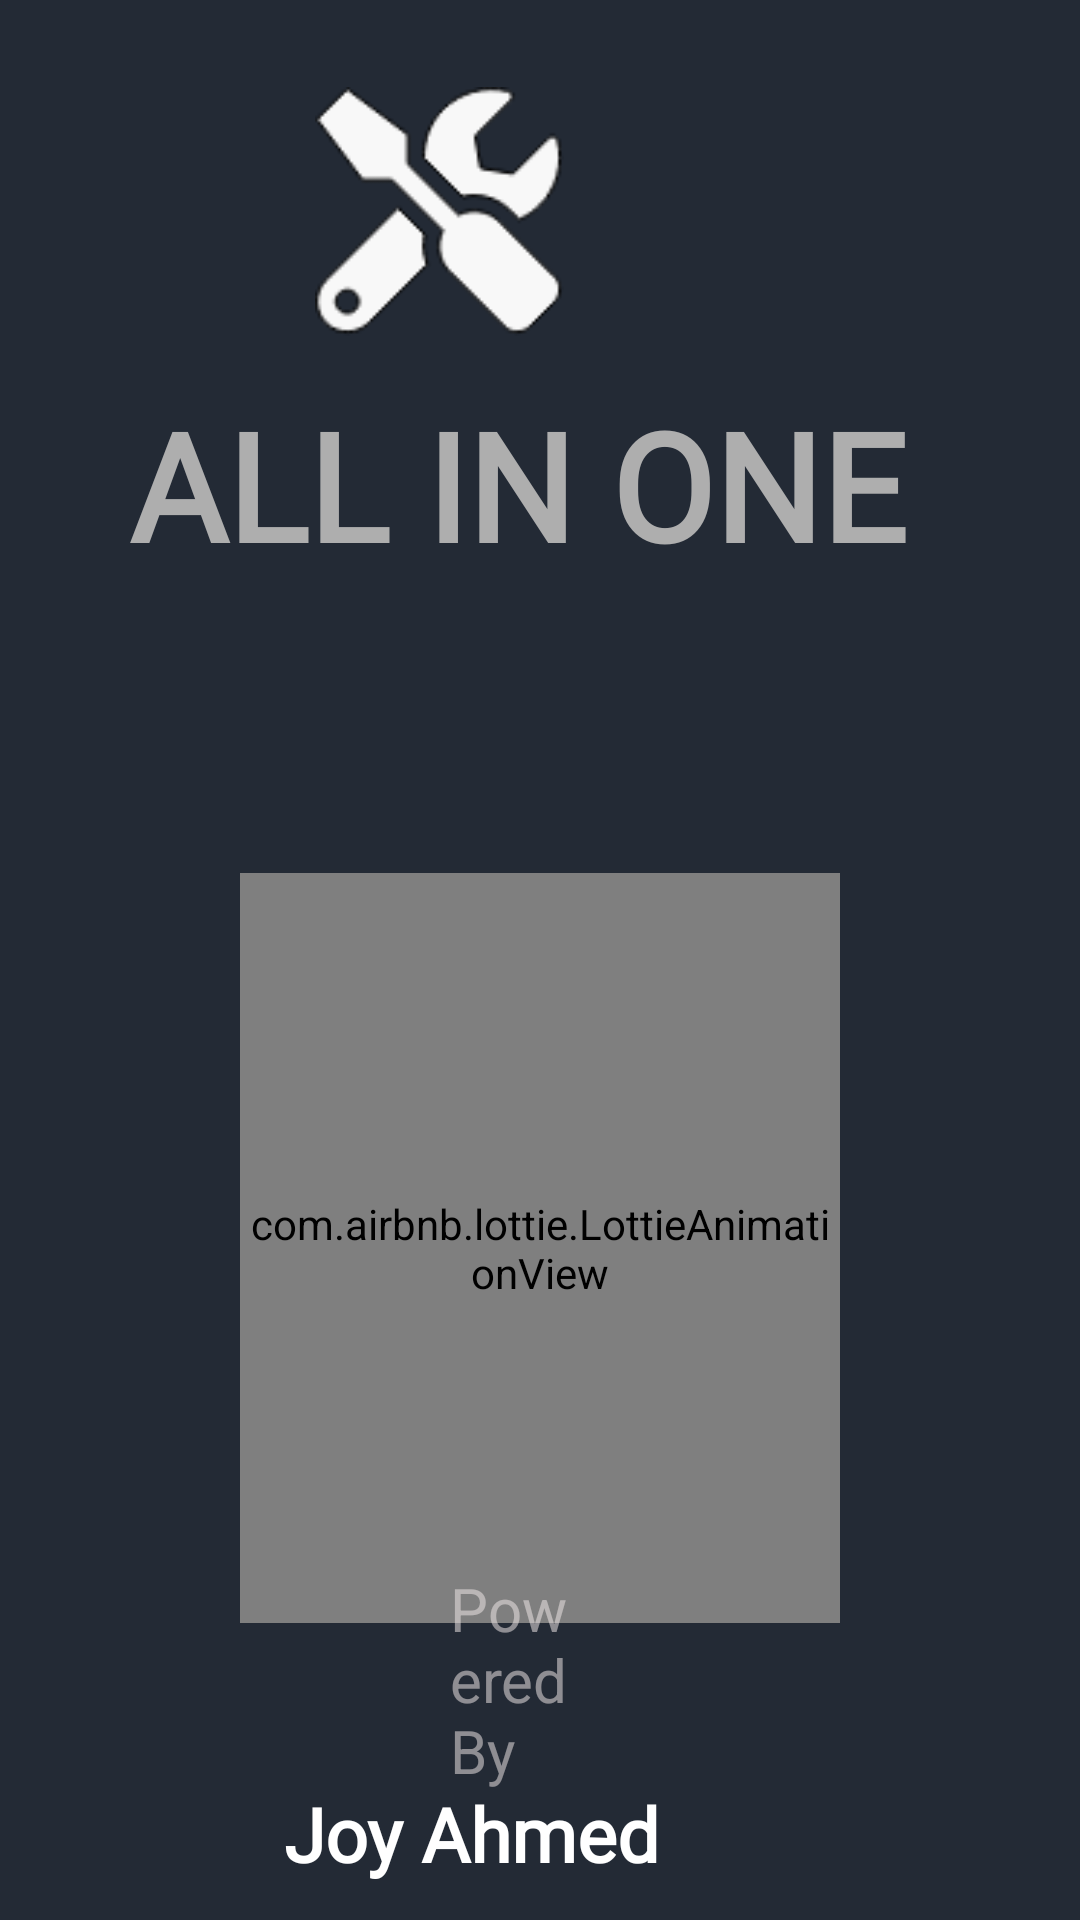

Where icons sit on this 1080x1920 app screen, as (x1, y1, x2, y2):
tools: (315, 87, 561, 333)
